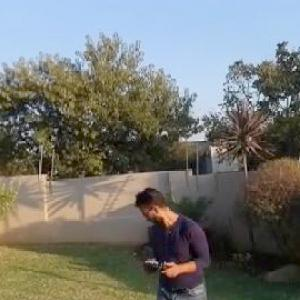follow: (131, 181, 217, 299)
